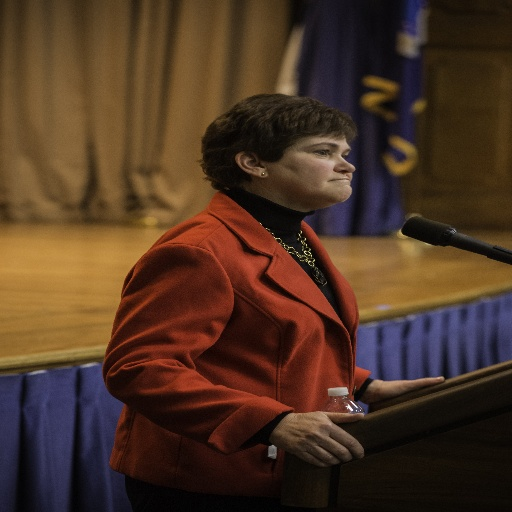hand: (268, 409, 368, 470), (361, 377, 445, 403)
